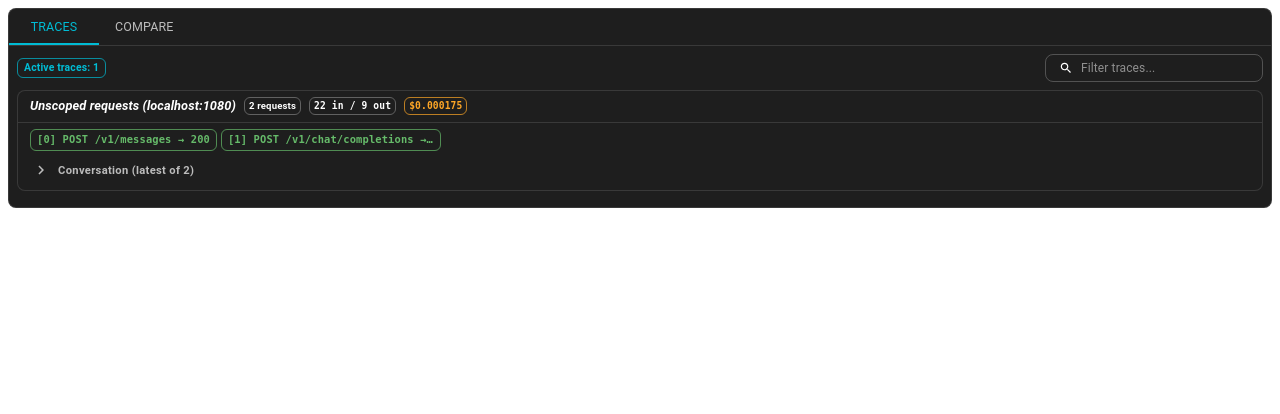
Test: SessionInspector › flags a mixed unscoped lane and hides the agent-run graph
Note: The Conversation flags that it shows only the most recent of several.
Click the button "Conversation (latest of 2)".
click(114, 170)  # box [30,156,198,184]
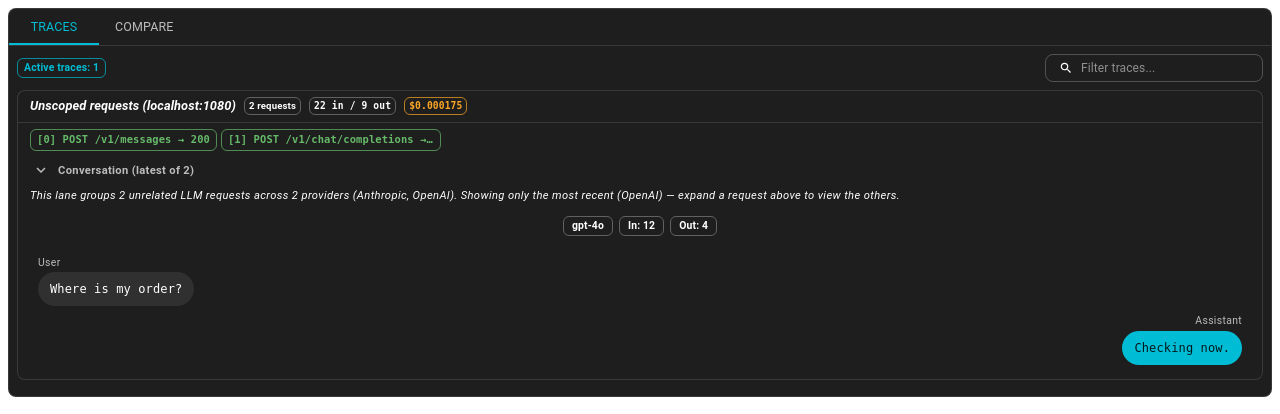
Expected: the text "This lane groups 2 unrelated LLM requests across 2 providers" is shown, [30,189,900,202]
